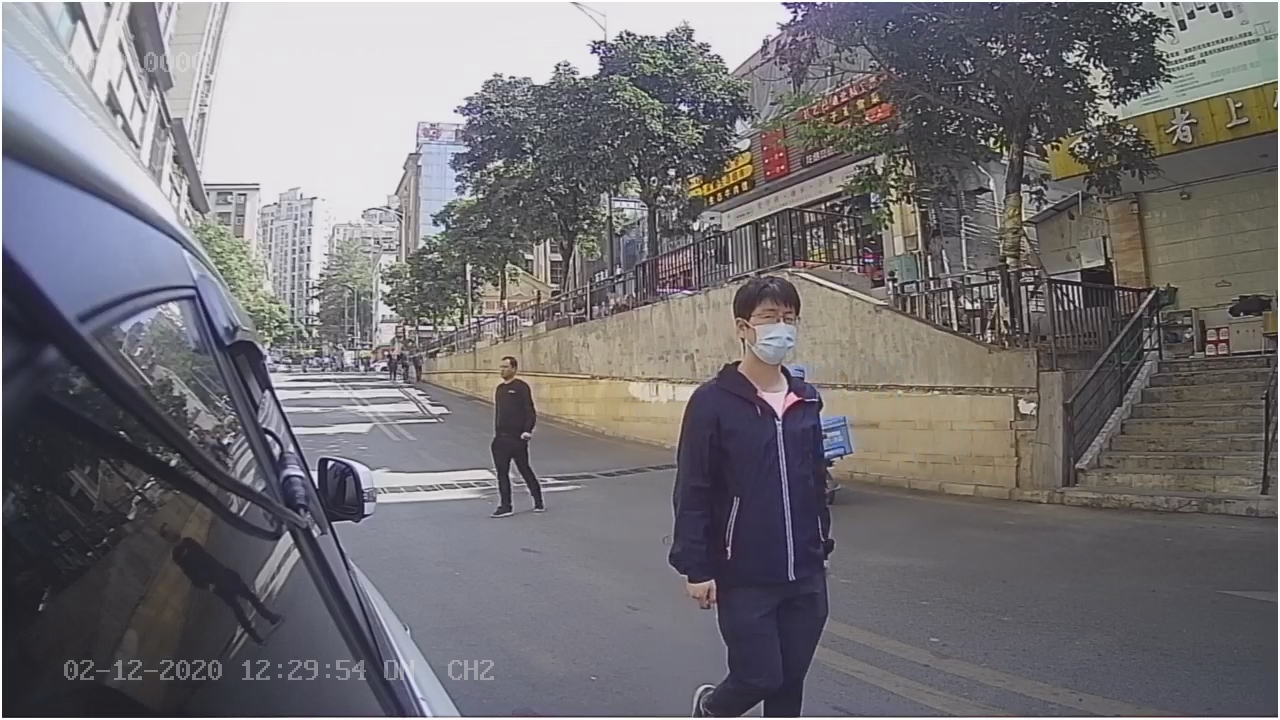person: (665, 271, 872, 611), (472, 348, 559, 531)
